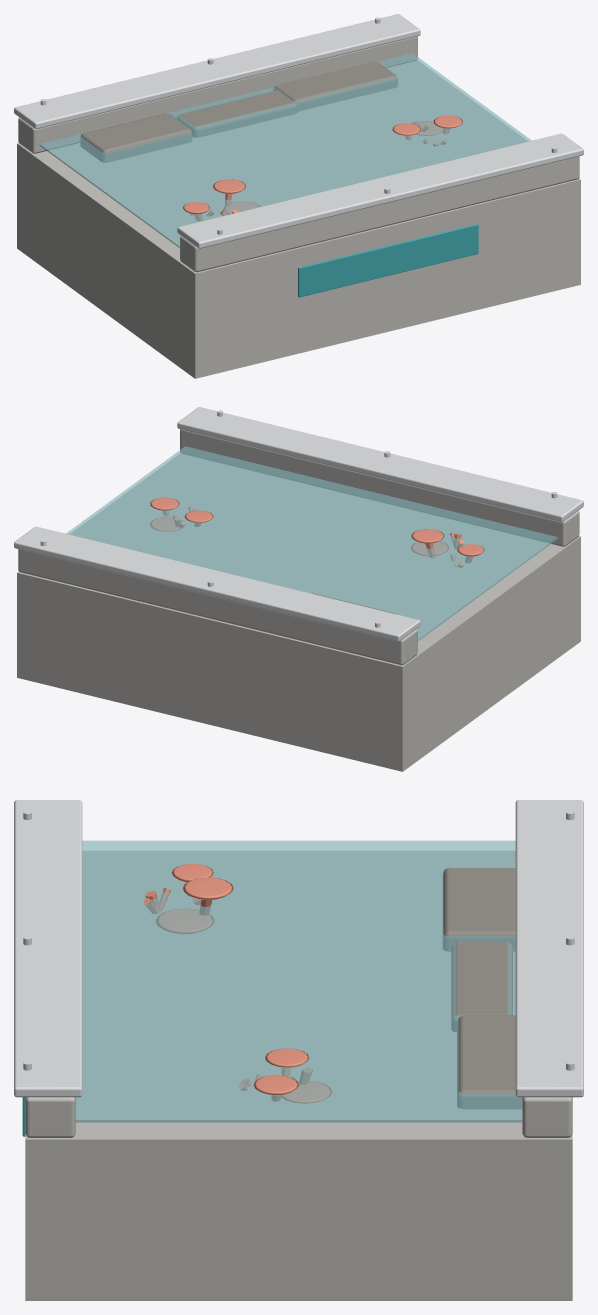
The model's file is public-aquarium-and-marine-centre-ray-pool-section-07b90de7__34149.glb.
The picture shows the model from 3 angles, top to bottom: view 1: azimuth 30°, elevation 25°; view 2: azimuth 150°, elevation 25°; view 3: azimuth 270°, elevation 25°; orthographic projection. The views are drawn at different scales.
Visible parts, largest first — view 1: ray-pool-section; view 2: ray-pool-section; view 3: ray-pool-section.
Part boxes in pixels (x1,y1,x2,y2): ray-pool-section: (14,14,583,378); ray-pool-section: (14,407,583,771); ray-pool-section: (14,800,583,1300).
Size of the model in its own units: 3 by 1.06 by 2.5.
